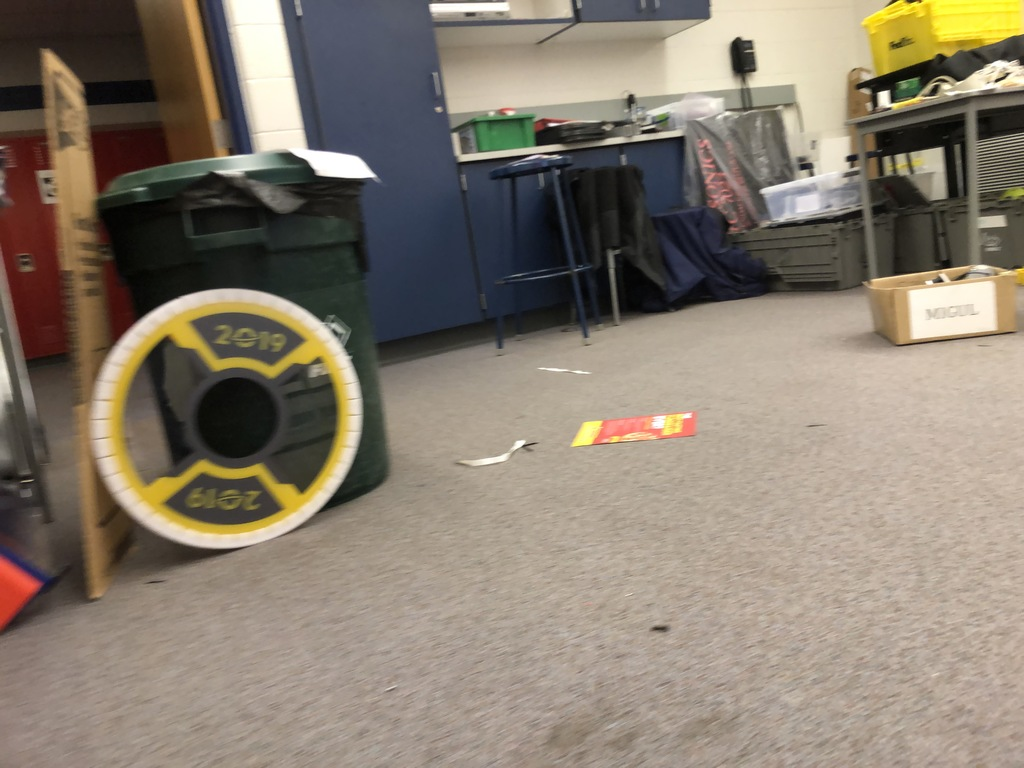hatch_panel: (73, 277, 371, 568)
